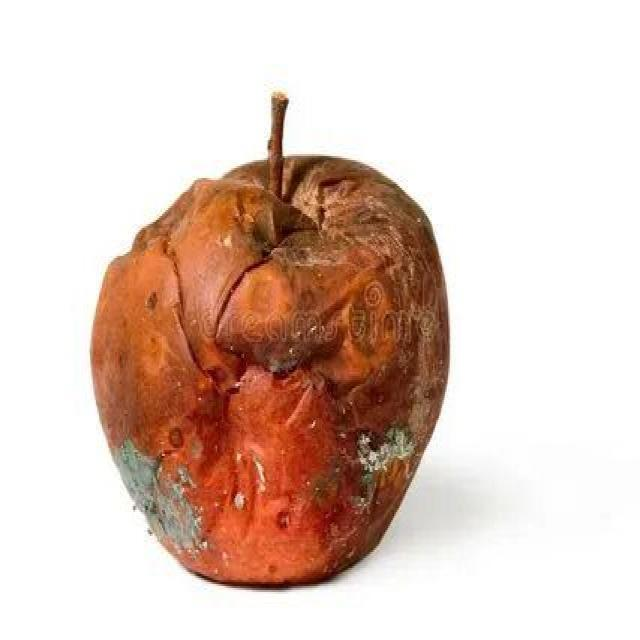Rotten: (94, 162, 448, 612)
